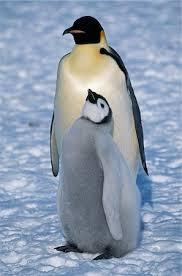emporer: (42, 11, 162, 258)
